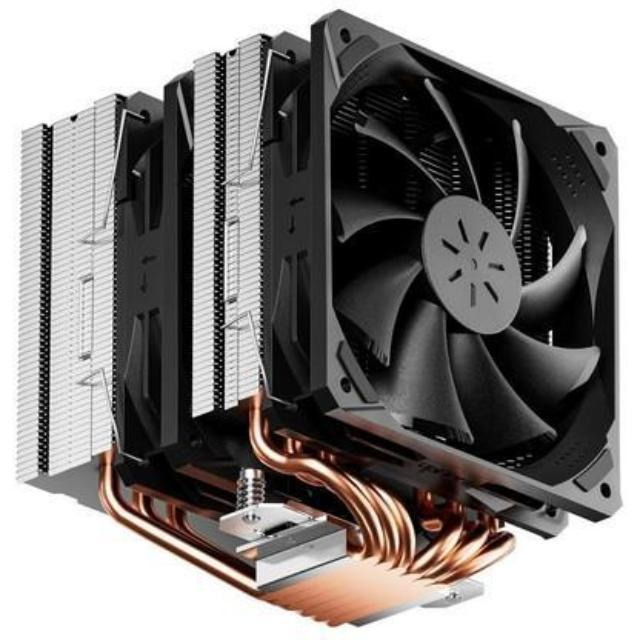CPU_Fan: (19, 9, 624, 623)
